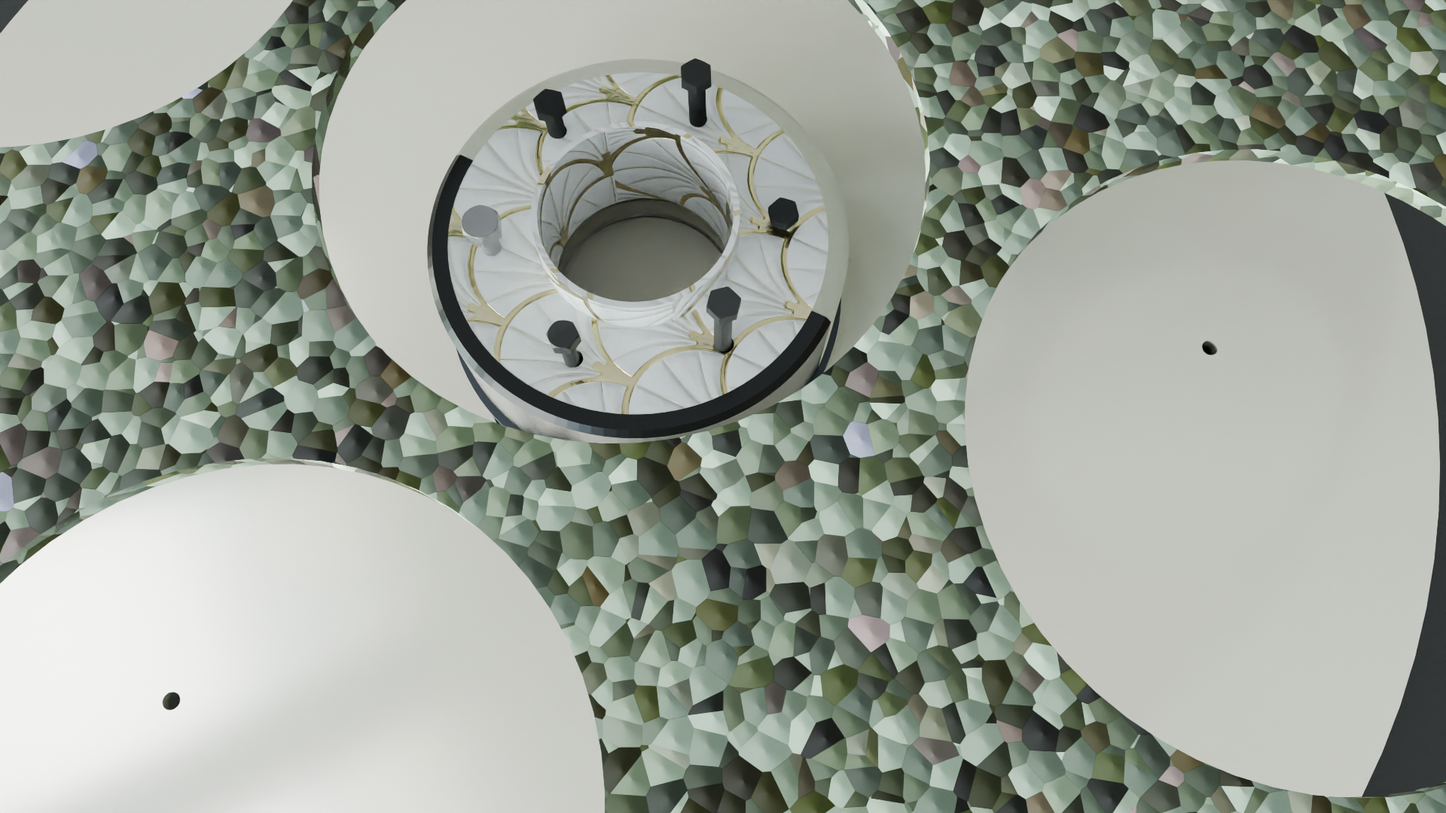bolt: (462, 205, 499, 242), (706, 287, 741, 319), (546, 320, 580, 349), (533, 89, 566, 117), (681, 58, 711, 88), (768, 197, 799, 226)
